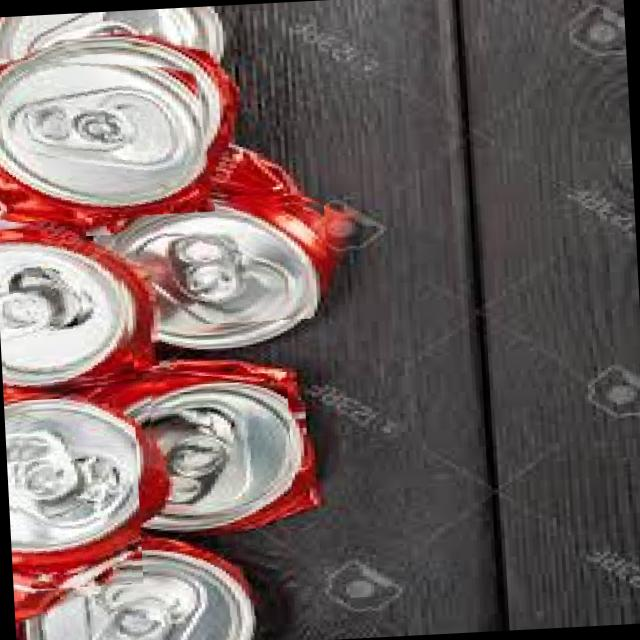Cans: (0, 44, 217, 221), (140, 191, 330, 326), (5, 408, 144, 590), (139, 371, 295, 526), (34, 545, 274, 640), (0, 232, 136, 393)
